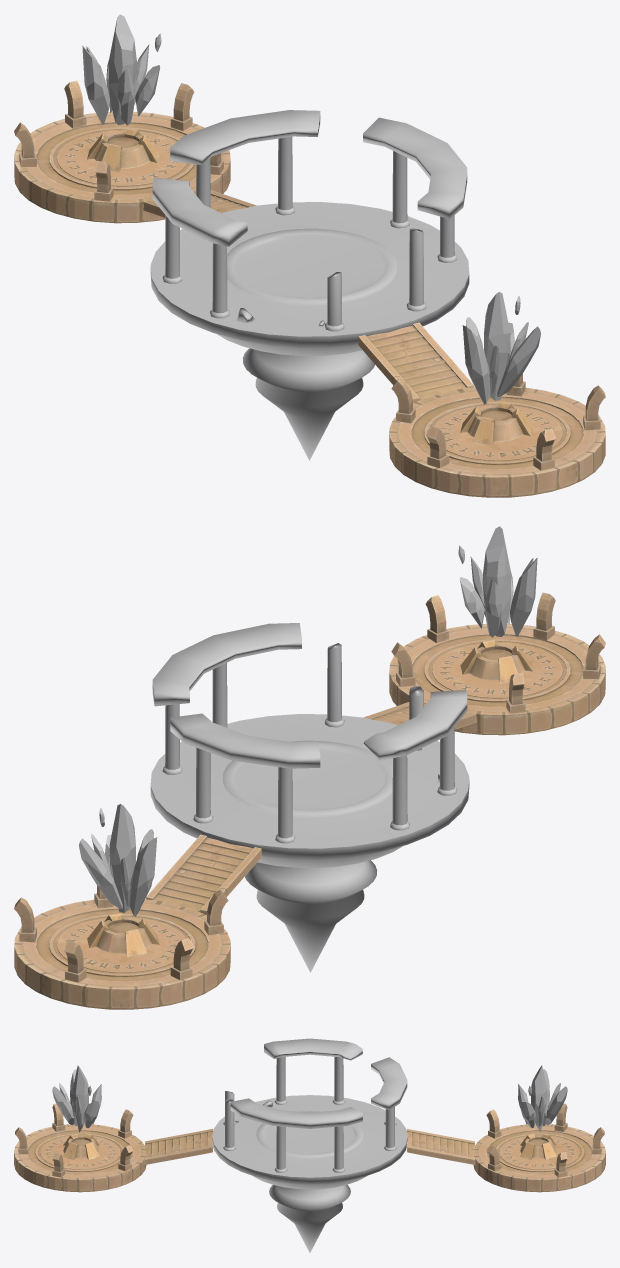
File: temple.fbx
3 renders of one model, top to bottom at view 1: azimuth 30°, elevation 25°; view 2: azimuth 150°, elevation 25°; view 3: azimuth 270°, elevation 25°, orthographic. The views are drawn at different scales.
Parts seen in each view (by area): view 1: templeunder, templepartB, ruintemple, templepartA, crystaltemple; view 2: templeunder, templepartB, ruintemple, templepartA, crystaltemple; view 3: templeunder, templepartB, ruintemple, templepartA, crystaltemple.
Boxes of the visible parts, x1,y1,x2,y2 form: templeunder: (150, 202, 469, 460); templepartB: (14, 112, 605, 497); ruintemple: (152, 110, 467, 331); templepartA: (14, 80, 605, 470); crystaltemple: (82, 14, 540, 404); templeunder: (150, 714, 469, 972); templepartB: (14, 624, 605, 1009); ruintemple: (152, 623, 467, 843); templepartA: (14, 592, 605, 982); crystaltemple: (79, 526, 537, 916); templeunder: (212, 1095, 407, 1252); templepartB: (14, 1124, 605, 1192); ruintemple: (223, 1038, 407, 1172); templepartA: (15, 1103, 604, 1177); crystaltemple: (52, 1065, 567, 1132).
Size of the model in its own units: 83.71 by 89.06 by 253.
